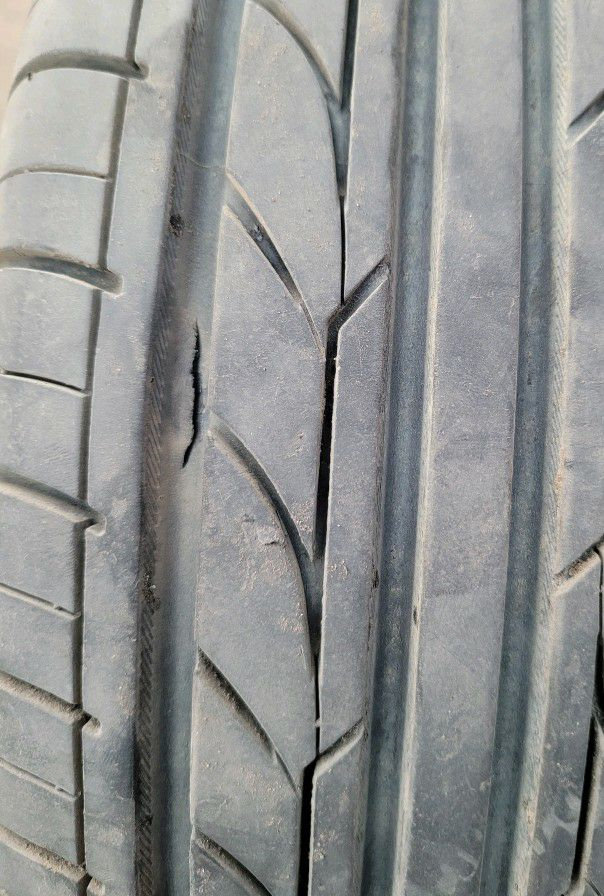tr: (178, 311, 208, 477)
